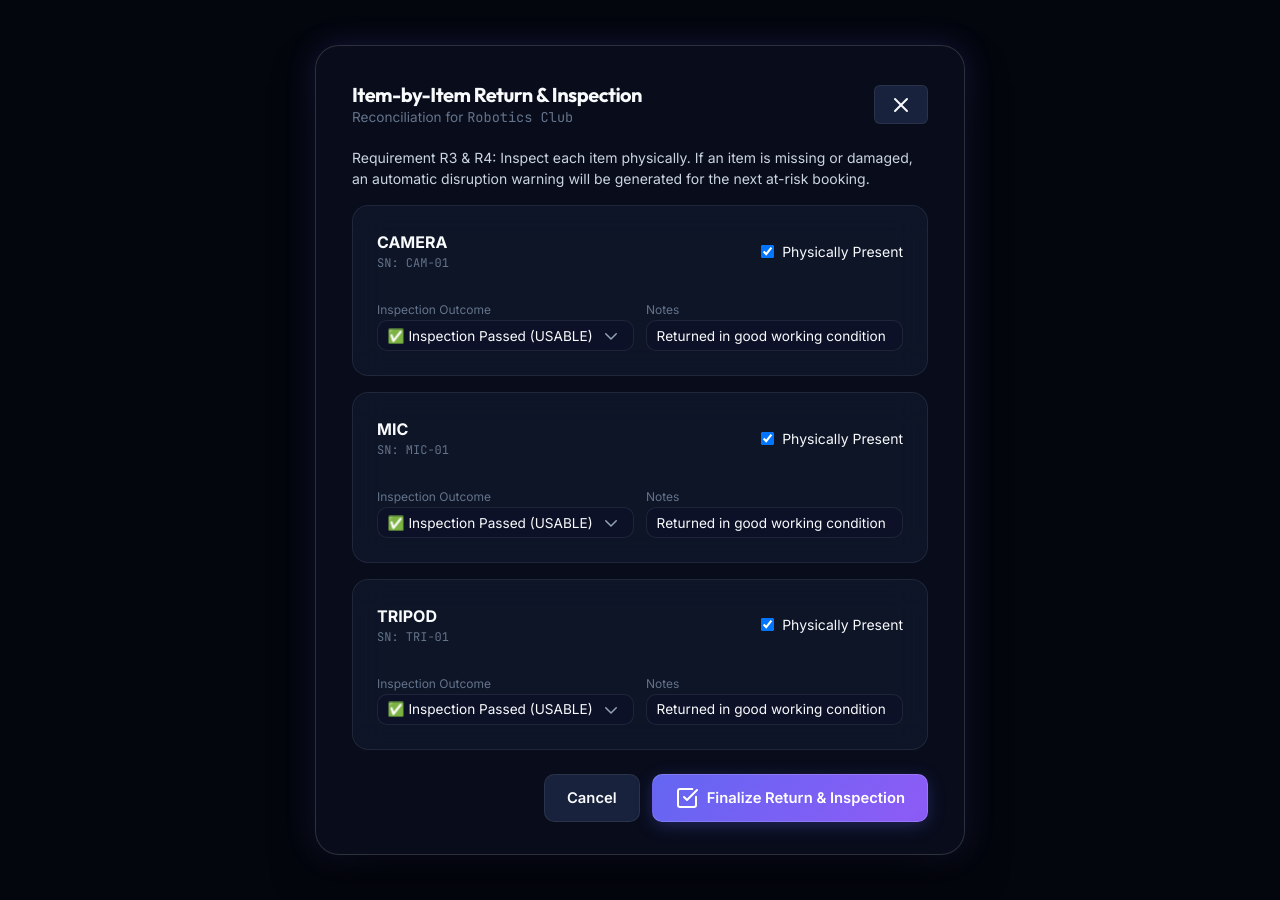
Milestone 5: Frontend UI & Interactive Workflows › ReturnModal Item-by-Item Reconciliation › allows toggling item presence and inspection results
Expected: the heading "Item-by-Item Return & Inspection" is shown, [352,82,642,107]
# Uncheck presence on Tripod (partial return)
Click the checkbox labelled "Physically Present" in the row of "TRI-01" at (768, 625), box [761,618,774,632]
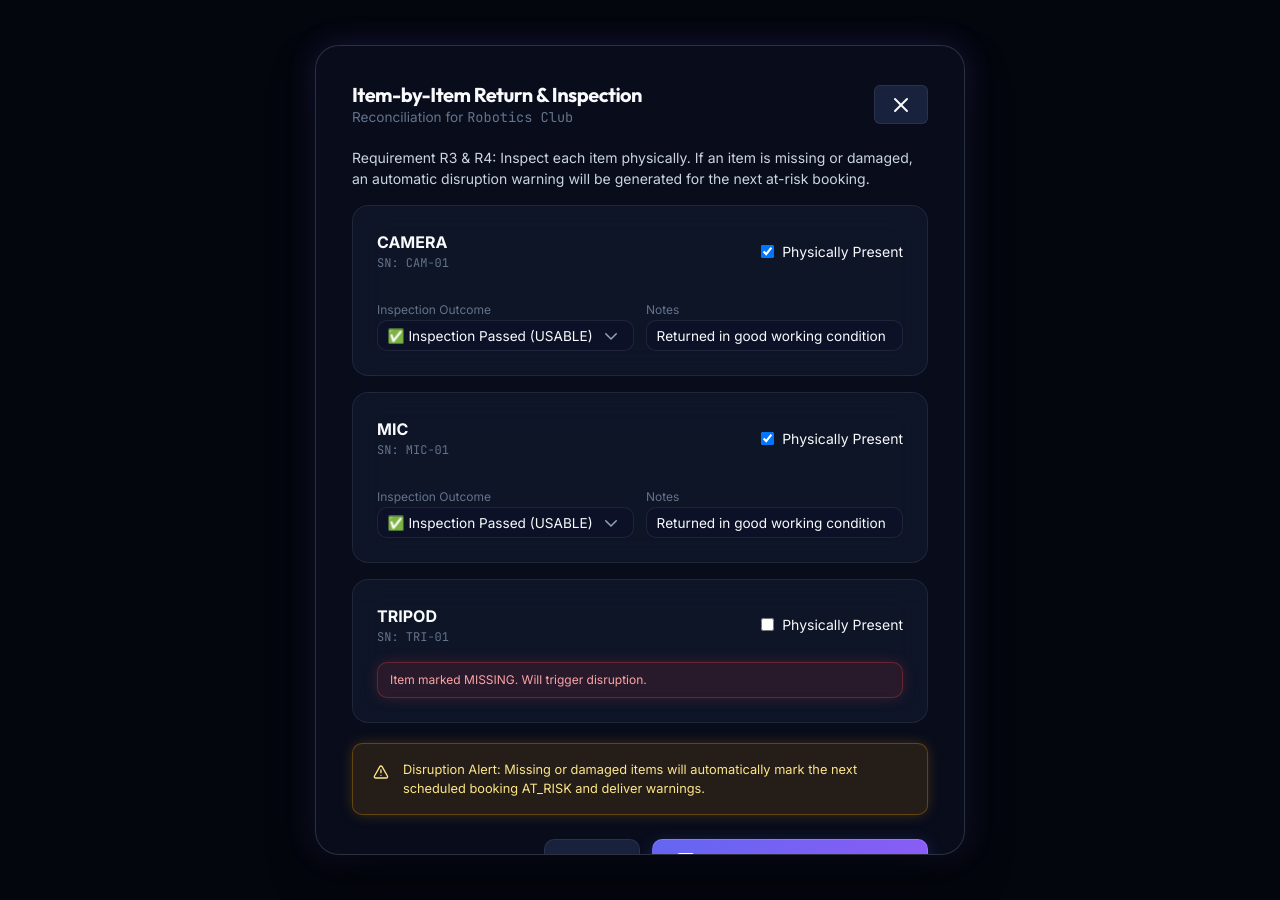
Expected: the text "Item marked MISSING. Will trigger disruption." is shown, [390,671,647,689]
Expected: the text "Disruption Alert: Missing or damaged items will automatically mark the next scheduled booking AT_RISK" is shown, [403,762,857,796]
